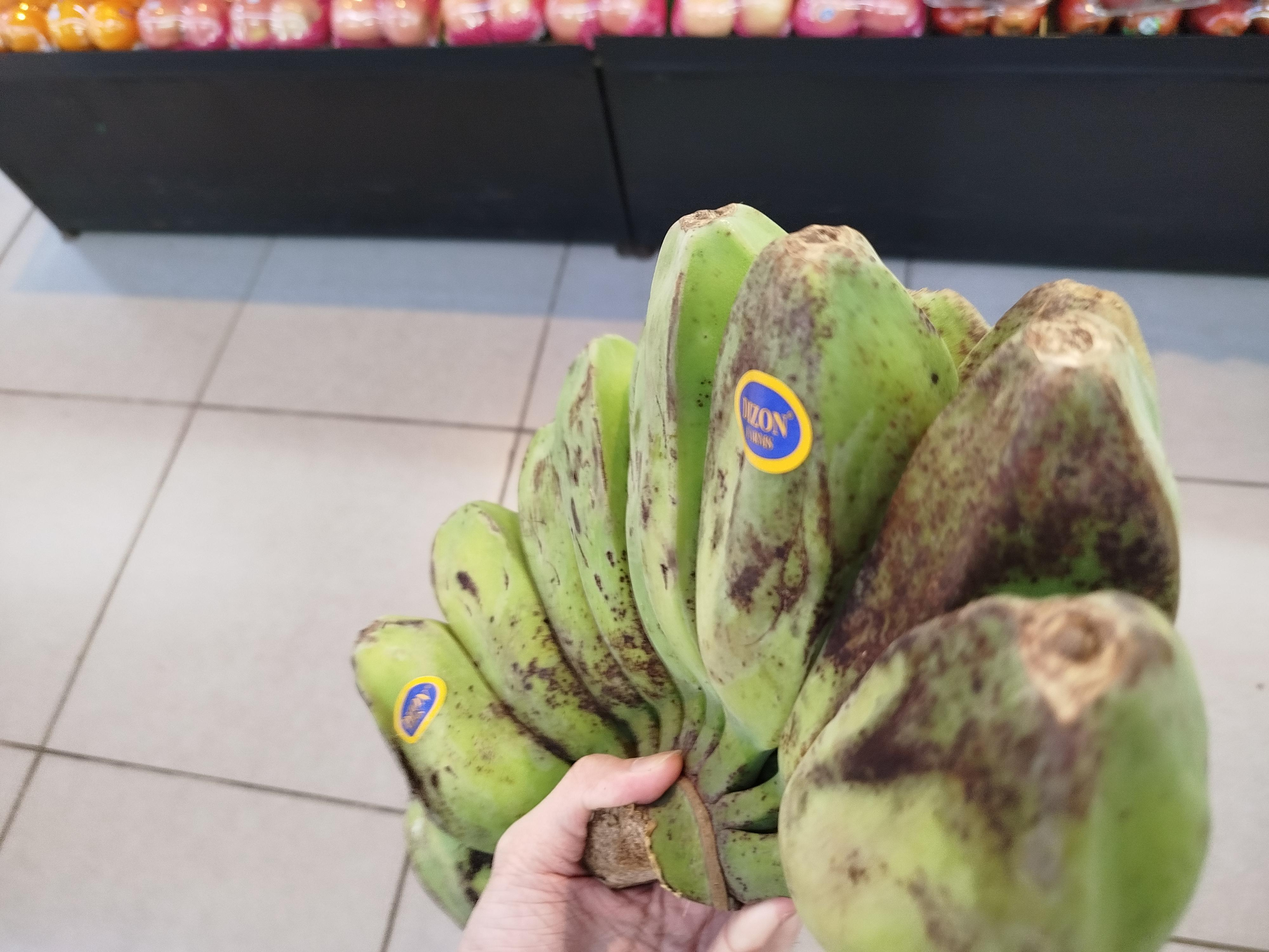underripe: (357, 205, 1212, 952)
